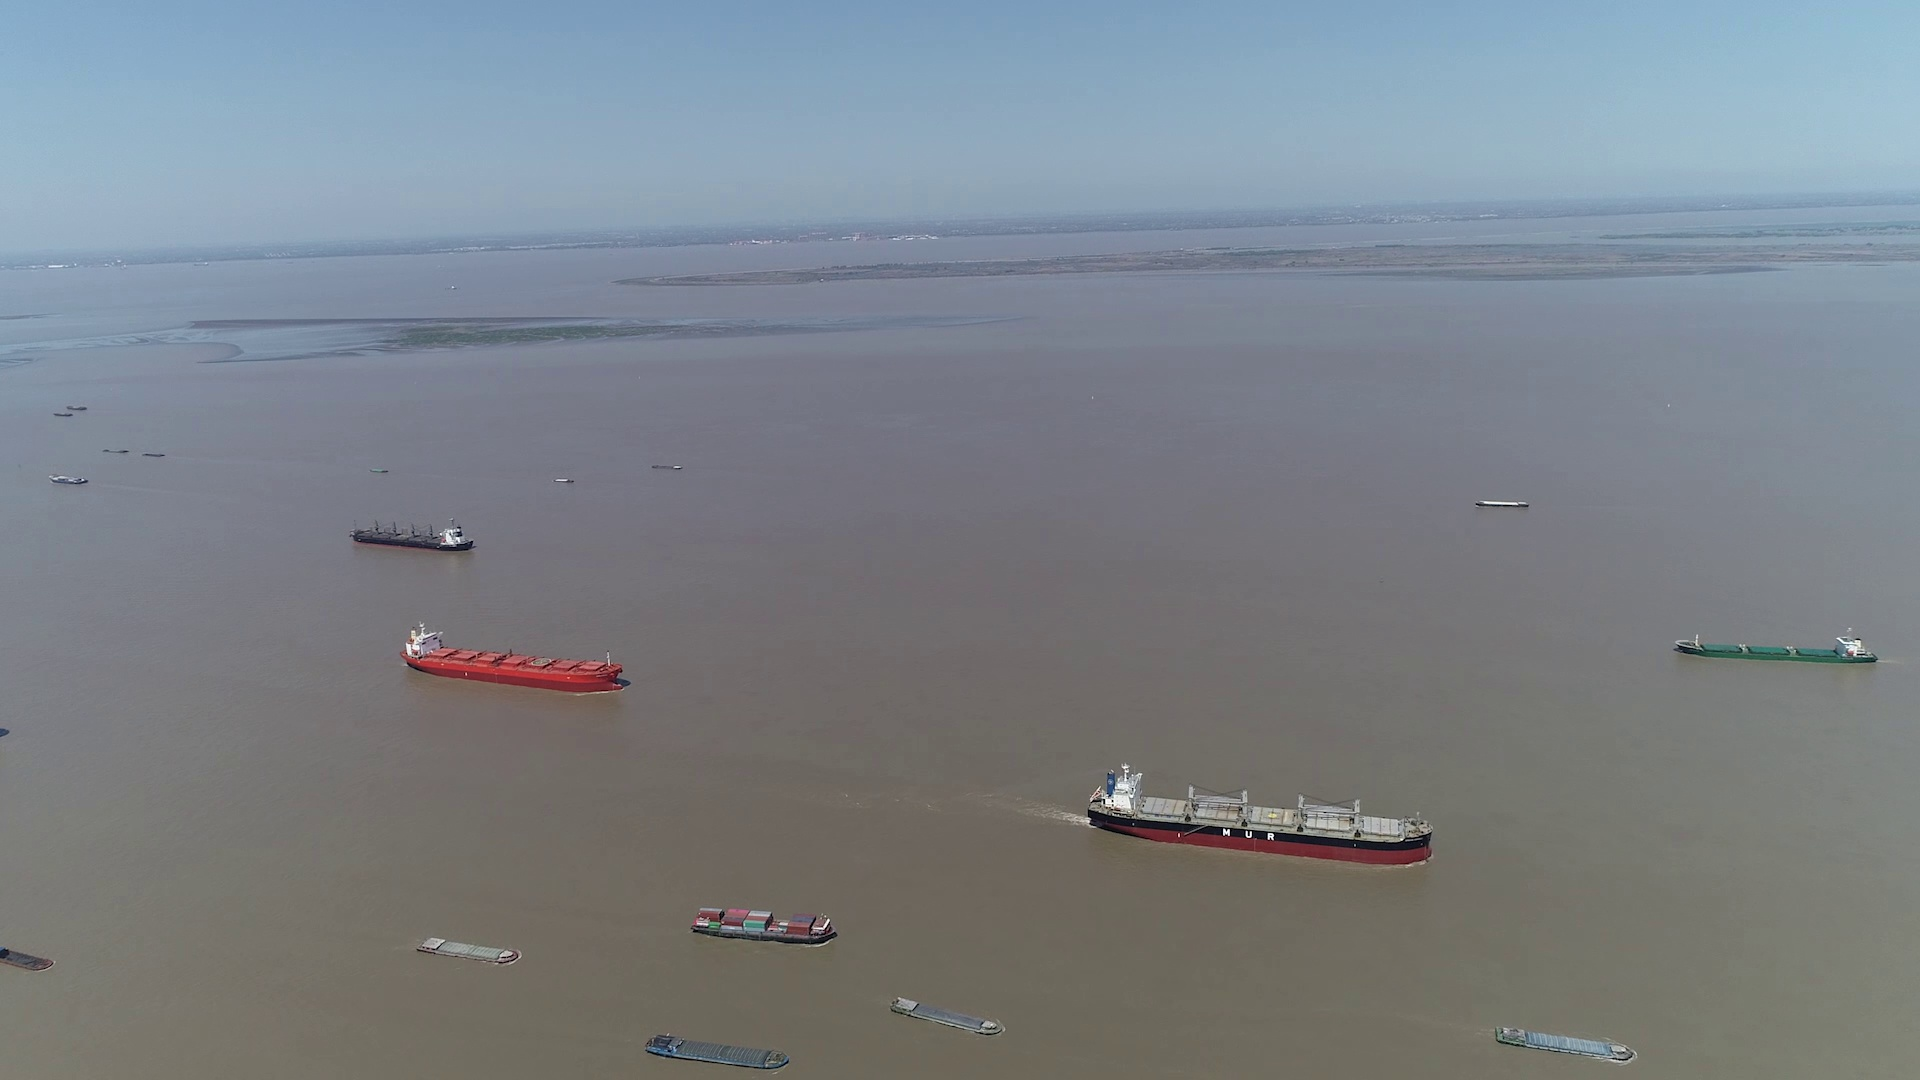ship: (1087, 767, 1432, 865), (400, 624, 621, 694), (1675, 629, 1876, 665), (690, 906, 837, 945), (646, 1035, 790, 1073), (1495, 1026, 1635, 1064), (891, 998, 1006, 1039), (349, 516, 476, 551), (419, 938, 521, 963), (0, 940, 53, 972), (1477, 498, 1530, 509), (47, 473, 90, 484)
